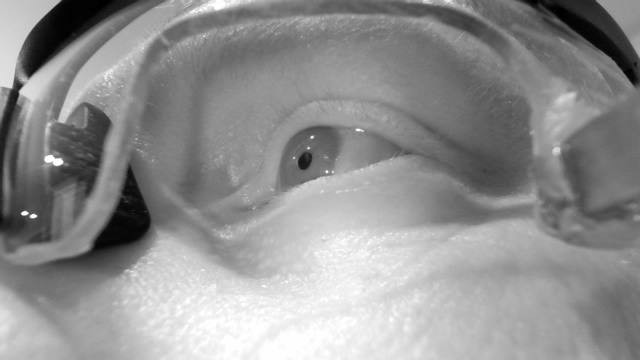pupil: (297, 151, 313, 171)
